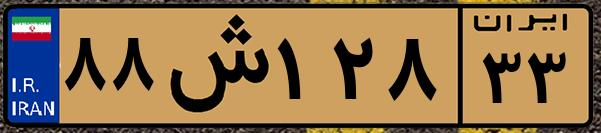1: (270, 28, 330, 110)
2: (330, 28, 385, 110)
3: (475, 38, 525, 113), (525, 38, 570, 115)
8: (385, 28, 445, 110), (57, 26, 110, 100), (110, 28, 158, 98)
ش: (158, 12, 270, 120)
